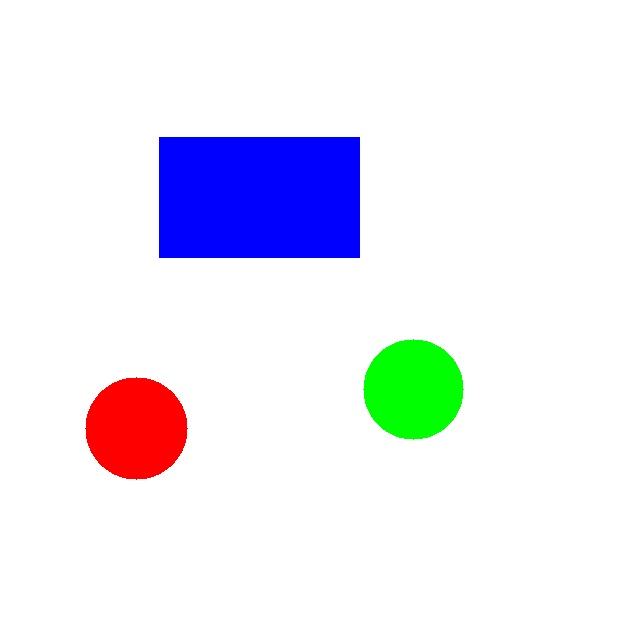cartao: (159, 137, 359, 257)
rosca_externa: (363, 339, 463, 439)
rosca_interna: (85, 377, 187, 479)
